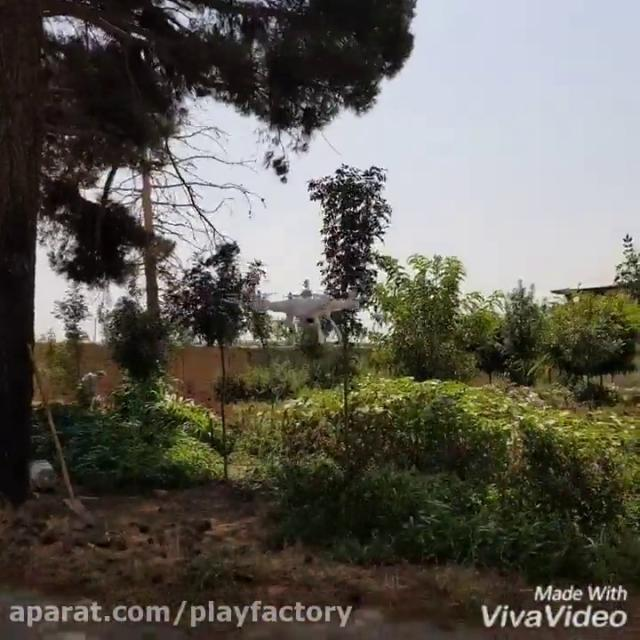drone: (228, 282, 367, 345)
